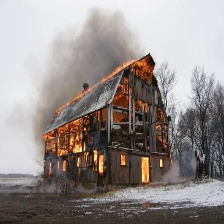fire: (47, 66, 178, 185)
smoke: (34, 18, 147, 92)
